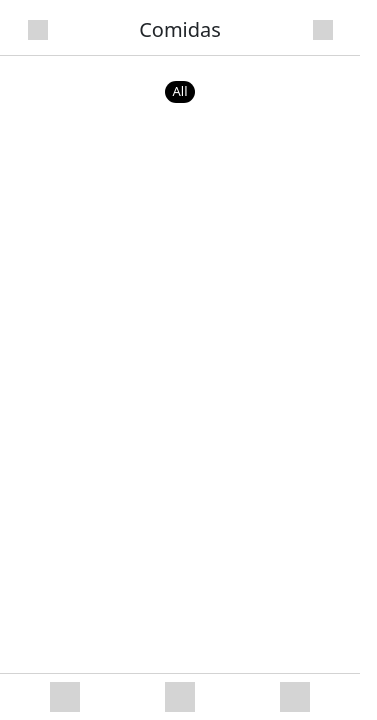
Test: Testa o Searchbar da aplicação › Verifica o nome de cada radio button
The width and height of the screenshot is (377, 720).
Click the button with test id "search-top-btn": (322, 30) x1=305 y1=12 x2=340 y2=48
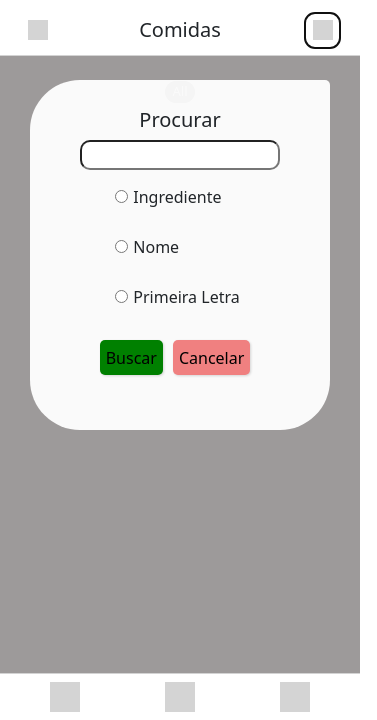
Now the text "Ingrediente" is shown, box x1=128 y1=180 x2=226 y2=214
